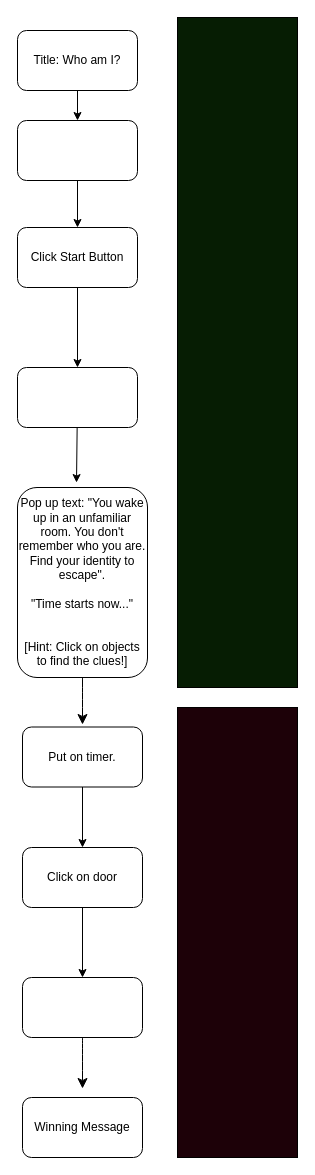
Image size: 315x1175. Some labels were removed from this diagram. The centre of each missing label's shape, as x and y in pixels:
Start button appears (push object): (x=77, y=150)
Title Disappears, background changes: (x=77, y=397)
Trigger Exit Form Q: "Type Answer.." A: "Answer": (x=82, y=1007)
